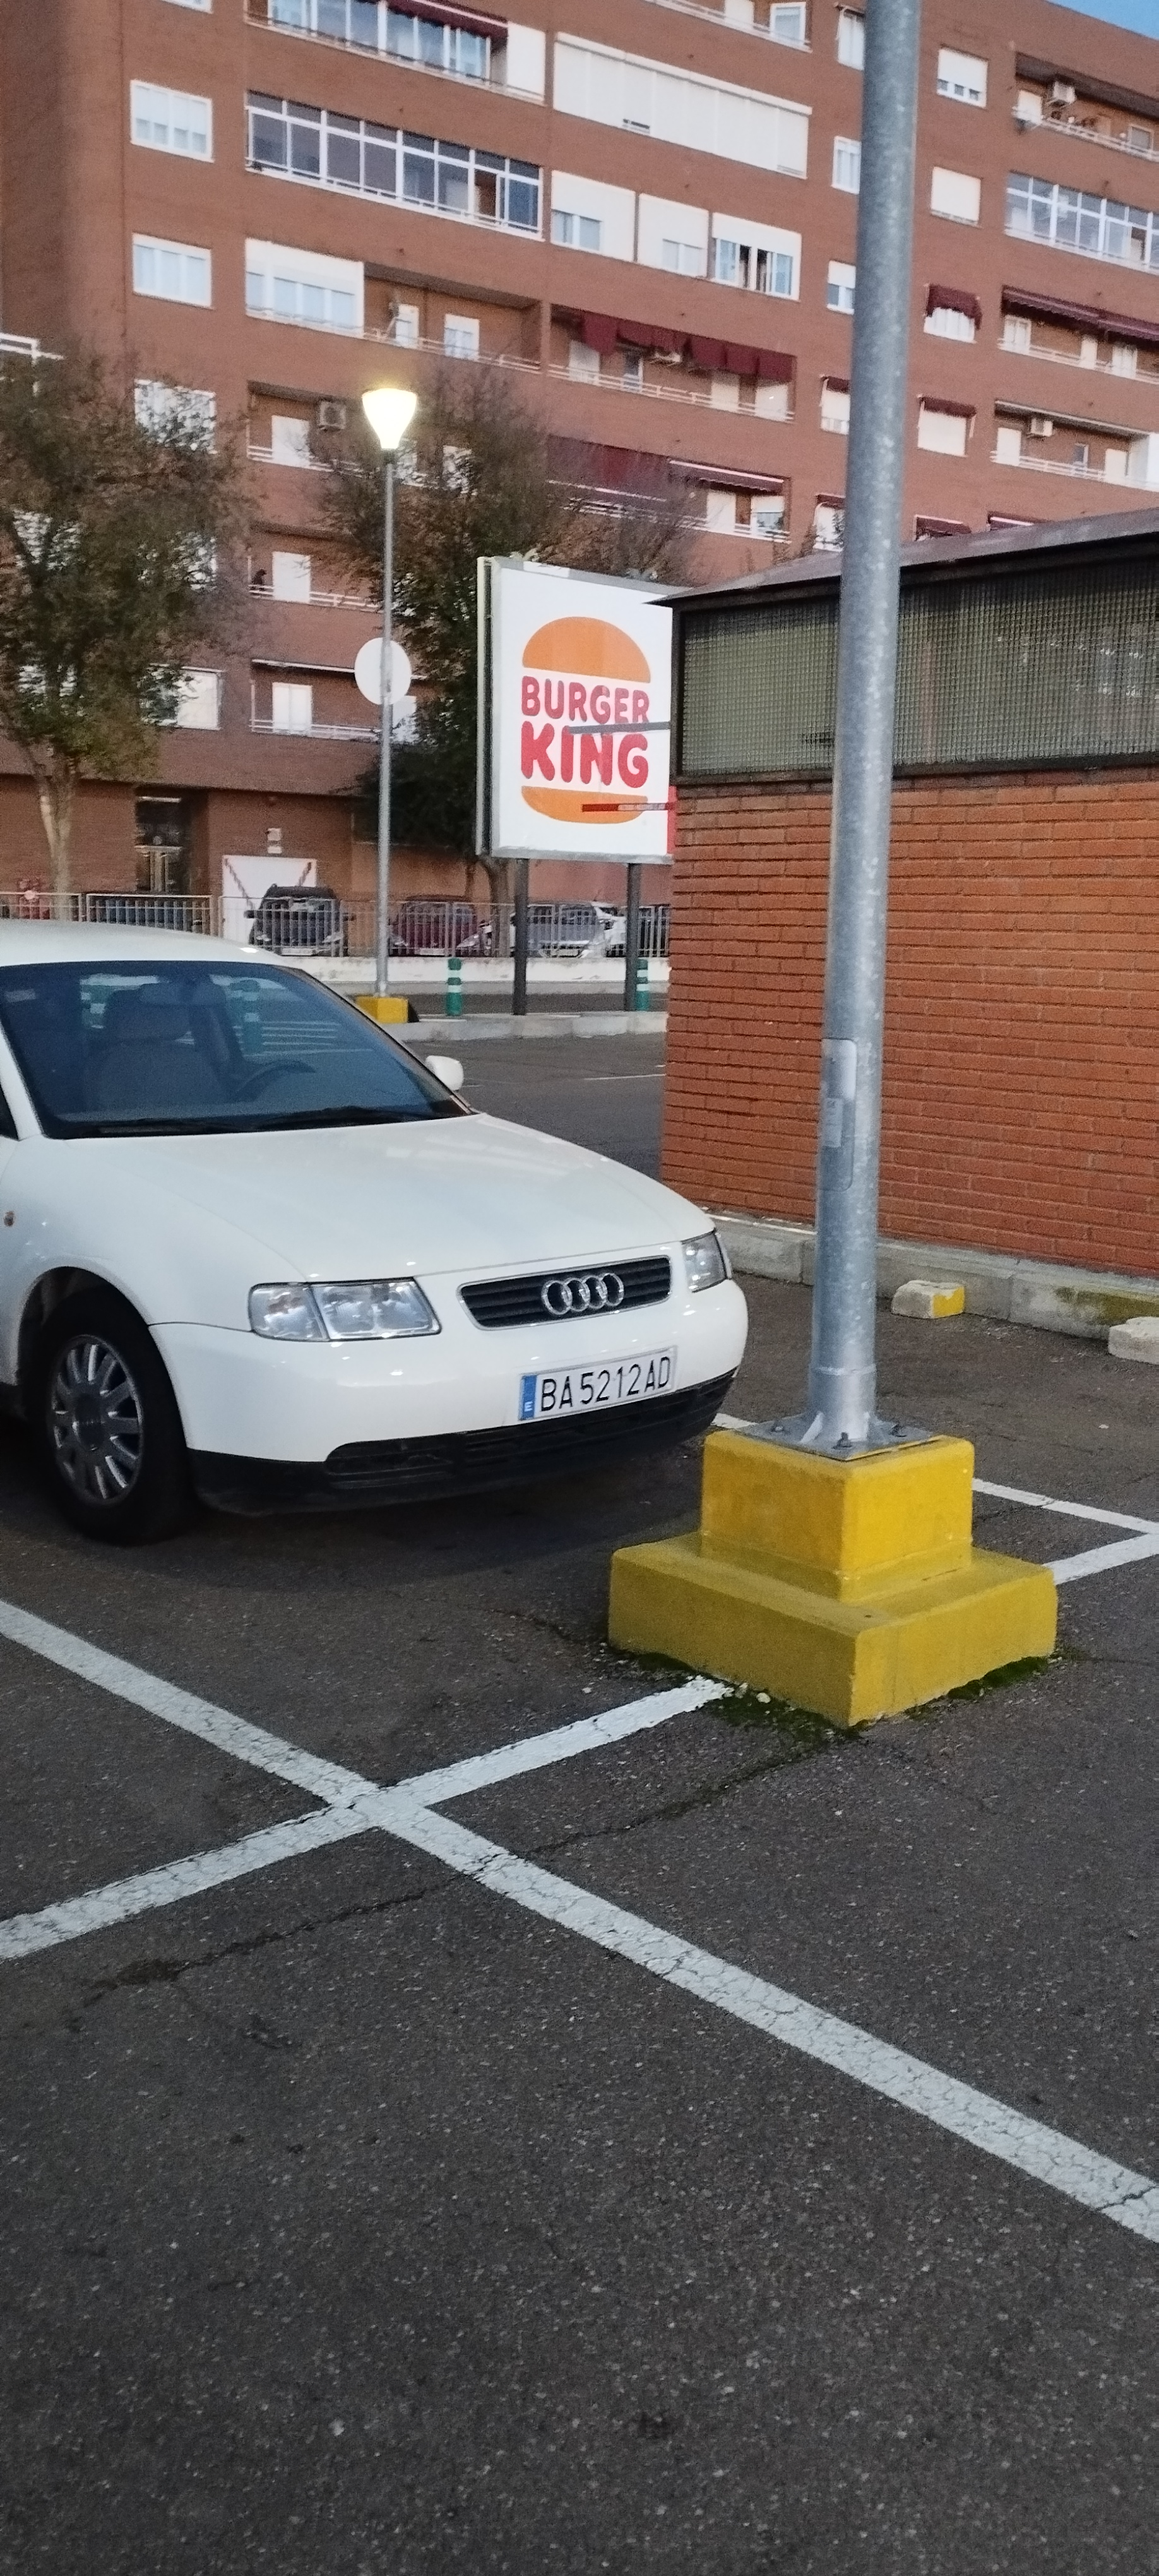Car: (0, 917, 744, 1547)
Plate: (518, 1380, 674, 1422)
